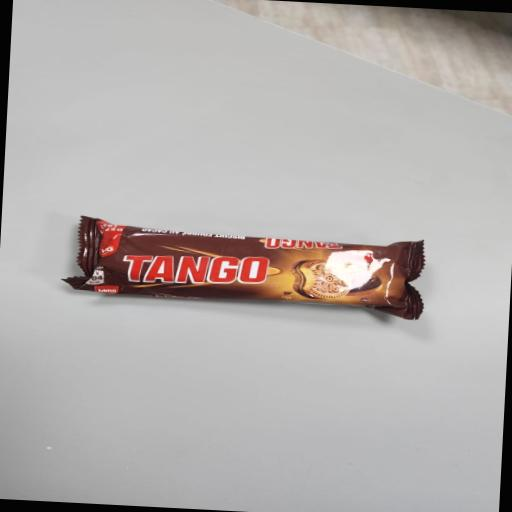tango: (32, 150, 478, 360)
